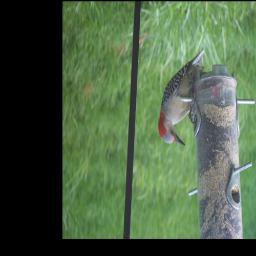Woodpecker: (159, 48, 206, 146)
